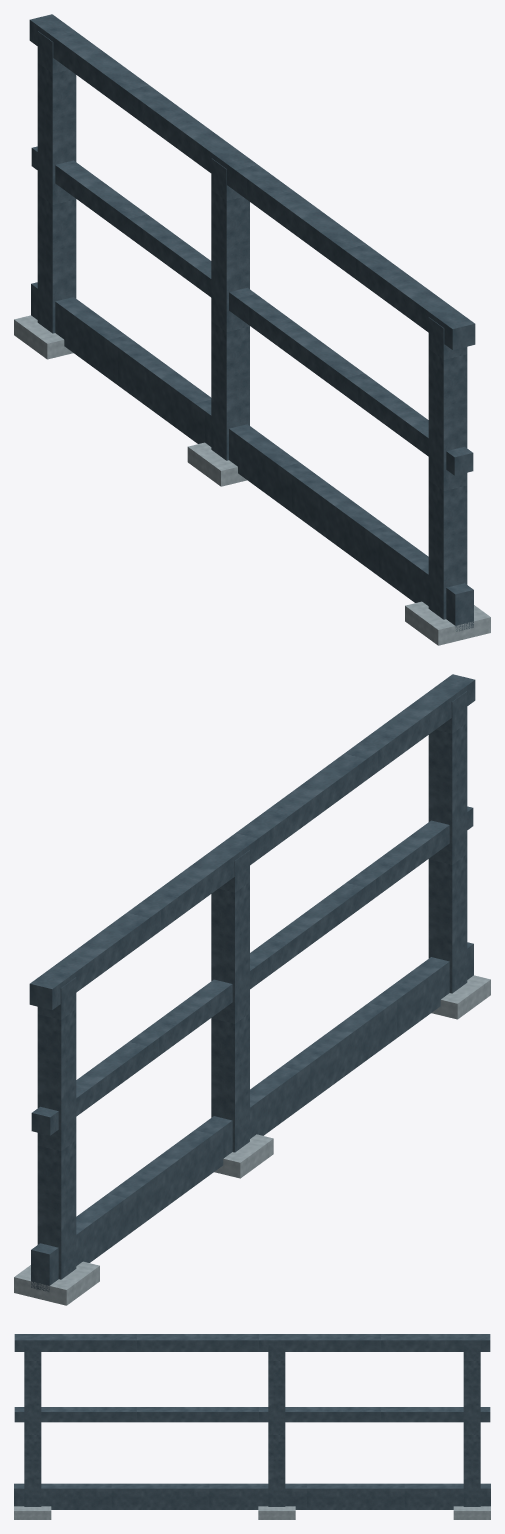
The model's file is PZ_Caldera_Handrail_03m_Clean.glb.
3 renders of one model, top to bottom at view 1: azimuth 30°, elevation 25°; view 2: azimuth 150°, elevation 25°; view 3: azimuth 270°, elevation 25°, orthographic. The views are drawn at different scales.
Visible parts, largest first — view 1: PZ_Caldera_Handrail_03m_Clean_RIGHT_UPRIGHT_POSTS, PZ_Caldera_Handrail_03m_Clean_RIGHT_TOE_KICK_PLATE, PZ_Caldera_Handrail_03m_Clean_RIGHT_TOP_HANDRAIL, PZ_Caldera_Handrail_03m_Clean_RIGHT_MID_HANDRAIL, PZ_Caldera_Handrail_03m_Clean_RIGHT_BOLTED_POST_BASES; view 2: PZ_Caldera_Handrail_03m_Clean_RIGHT_UPRIGHT_POSTS, PZ_Caldera_Handrail_03m_Clean_RIGHT_TOE_KICK_PLATE, PZ_Caldera_Handrail_03m_Clean_RIGHT_TOP_HANDRAIL, PZ_Caldera_Handrail_03m_Clean_RIGHT_MID_HANDRAIL, PZ_Caldera_Handrail_03m_Clean_RIGHT_BOLTED_POST_BASES; view 3: PZ_Caldera_Handrail_03m_Clean_RIGHT_TOE_KICK_PLATE, PZ_Caldera_Handrail_03m_Clean_RIGHT_UPRIGHT_POSTS, PZ_Caldera_Handrail_03m_Clean_RIGHT_TOP_HANDRAIL, PZ_Caldera_Handrail_03m_Clean_RIGHT_MID_HANDRAIL, PZ_Caldera_Handrail_03m_Clean_RIGHT_BOLTED_POST_BASES.
Part boxes in pixels (x1,y1,x2,y2): PZ_Caldera_Handrail_03m_Clean_RIGHT_UPRIGHT_POSTS: (37,31,467,619); PZ_Caldera_Handrail_03m_Clean_RIGHT_TOE_KICK_PLATE: (31,282,473,631); PZ_Caldera_Handrail_03m_Clean_RIGHT_TOP_HANDRAIL: (29,14,475,349); PZ_Caldera_Handrail_03m_Clean_RIGHT_MID_HANDRAIL: (31,146,473,475); PZ_Caldera_Handrail_03m_Clean_RIGHT_BOLTED_POST_BASES: (14,315,490,645); PZ_Caldera_Handrail_03m_Clean_RIGHT_UPRIGHT_POSTS: (37,691,467,1279); PZ_Caldera_Handrail_03m_Clean_RIGHT_TOE_KICK_PLATE: (31,942,473,1291); PZ_Caldera_Handrail_03m_Clean_RIGHT_TOP_HANDRAIL: (29,674,475,1009); PZ_Caldera_Handrail_03m_Clean_RIGHT_MID_HANDRAIL: (31,806,473,1135); PZ_Caldera_Handrail_03m_Clean_RIGHT_BOLTED_POST_BASES: (14,975,490,1305); PZ_Caldera_Handrail_03m_Clean_RIGHT_TOE_KICK_PLATE: (14,1483,490,1509); PZ_Caldera_Handrail_03m_Clean_RIGHT_UPRIGHT_POSTS: (24,1343,480,1506); PZ_Caldera_Handrail_03m_Clean_RIGHT_TOP_HANDRAIL: (14,1334,490,1351); PZ_Caldera_Handrail_03m_Clean_RIGHT_MID_HANDRAIL: (14,1407,490,1422); PZ_Caldera_Handrail_03m_Clean_RIGHT_BOLTED_POST_BASES: (14,1506,490,1519).
Bounding box in the file's own units: 0.21 × 1.19 × 2.93.
Materials: 2 (2 with a texture image).
